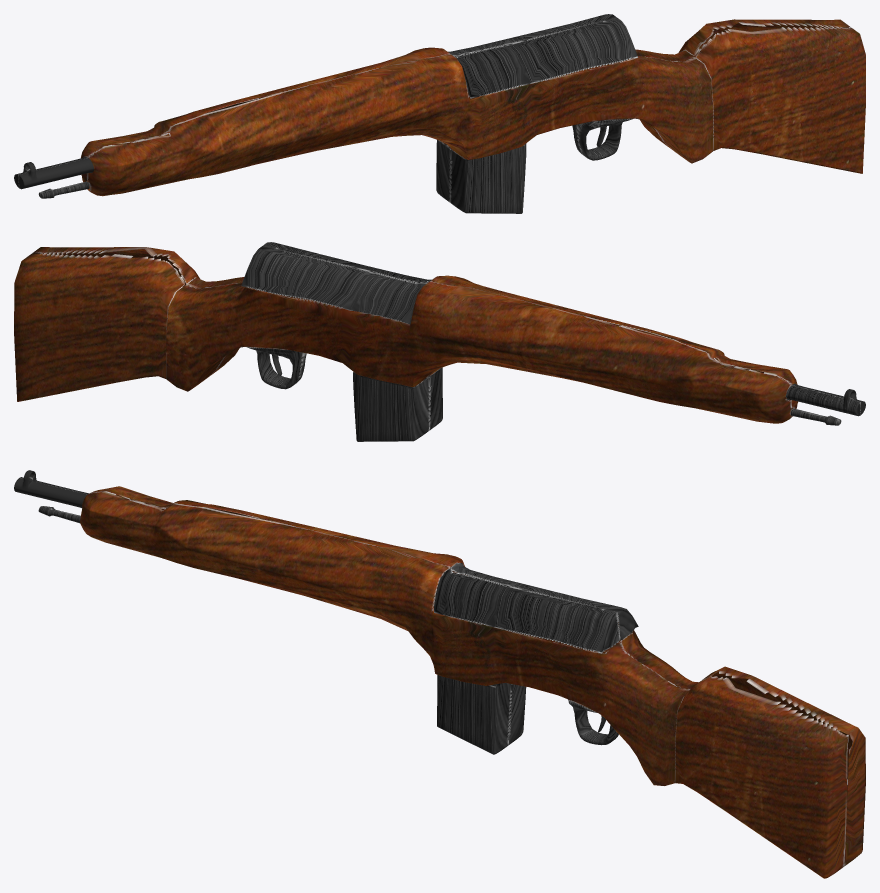
Rendered from gun.fbx.
The picture shows the model from 3 angles, top to bottom: view 1: azimuth 30°, elevation 25°; view 2: azimuth 150°, elevation 25°; view 3: azimuth 330°, elevation 25°; orthographic projection.
Visible parts, largest first — view 1: weapon_model:weapon_model:pPlane4; view 2: weapon_model:weapon_model:pPlane4; view 3: weapon_model:weapon_model:pPlane4.
Part boxes in pixels (bbox=[...]): weapon_model:weapon_model:pPlane4: bbox=[14, 14, 865, 213]; weapon_model:weapon_model:pPlane4: bbox=[14, 242, 865, 441]; weapon_model:weapon_model:pPlane4: bbox=[14, 470, 865, 878].
Size of the model in its own units: 12.02 by 2.86 by 0.9667.
1 material, 1 textured.
